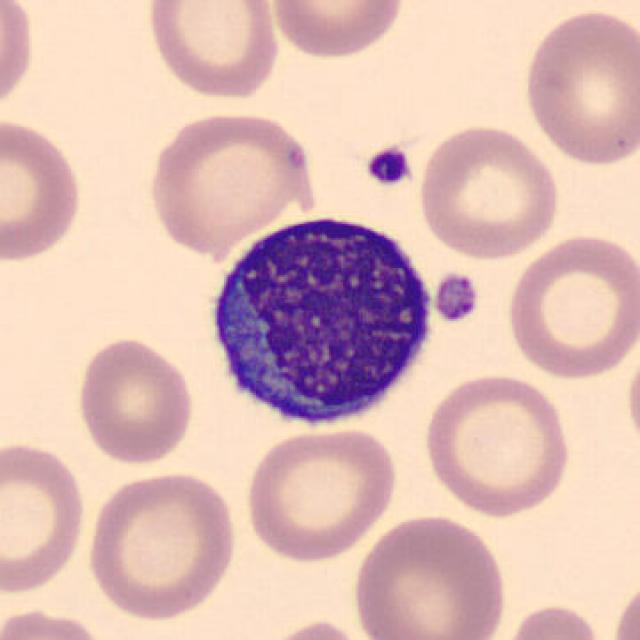Lymphocyte: (195, 201, 442, 437)
Platelets: (430, 270, 482, 324), (361, 142, 416, 188)
RBC: (142, 106, 322, 256), (82, 467, 242, 624), (420, 369, 574, 520), (242, 425, 402, 564), (414, 118, 564, 261), (348, 511, 511, 640), (502, 229, 638, 383), (519, 6, 638, 170), (71, 333, 199, 467), (0, 437, 91, 598), (142, 0, 282, 102), (0, 111, 87, 266), (265, 0, 409, 62), (494, 599, 610, 640), (0, 0, 37, 123), (0, 604, 110, 640), (249, 615, 377, 640), (622, 331, 640, 462), (608, 571, 640, 640)
